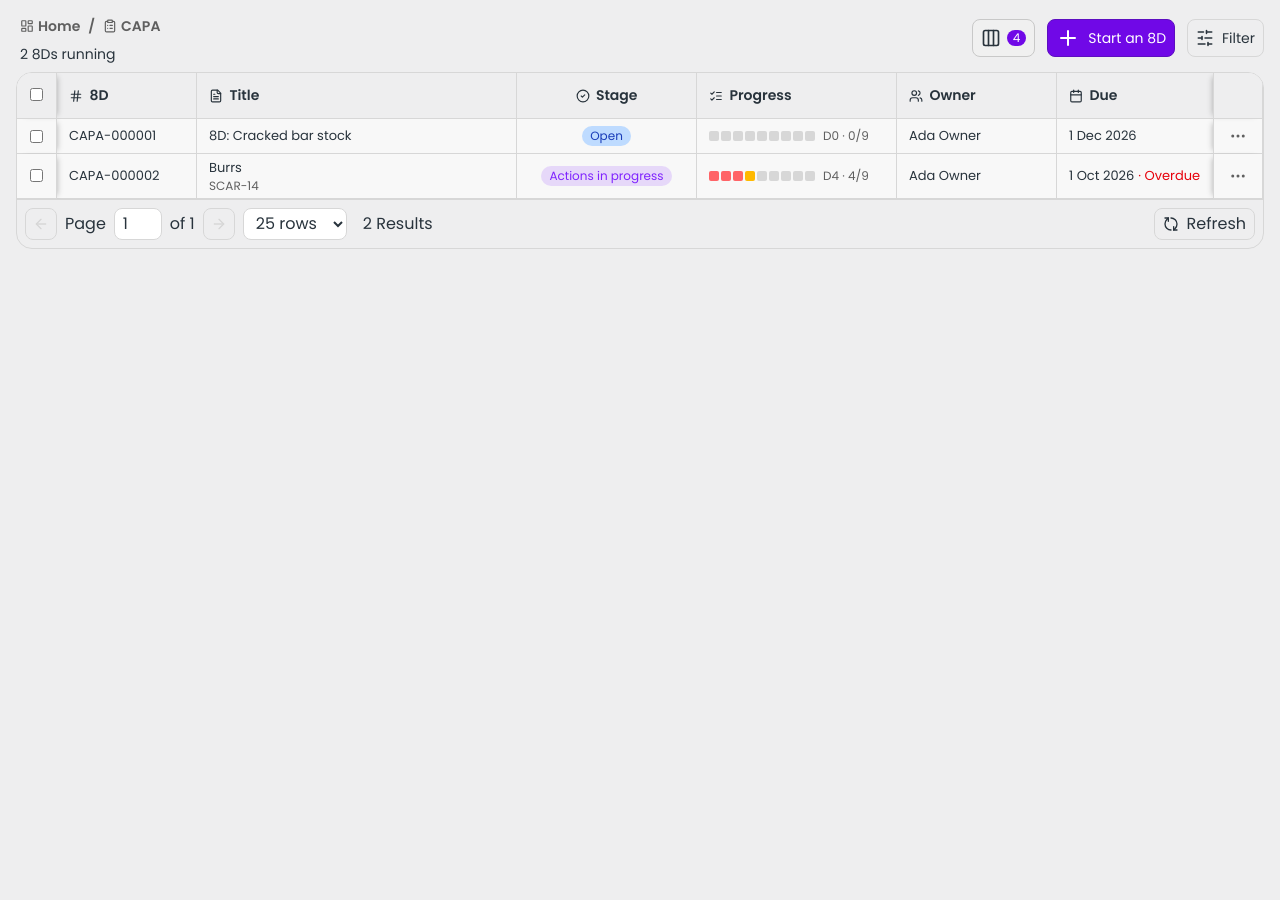
Scenario: 8D register › filters from the drawer (several stages, only mine, overdue), shows chips and clears them
Later steps or results of the test are not shown.
Expected: the element named "8Ds" is shown, [17, 73, 1263, 198]
Click the button "Filter" at (1226, 38), box [1187, 19, 1264, 57]
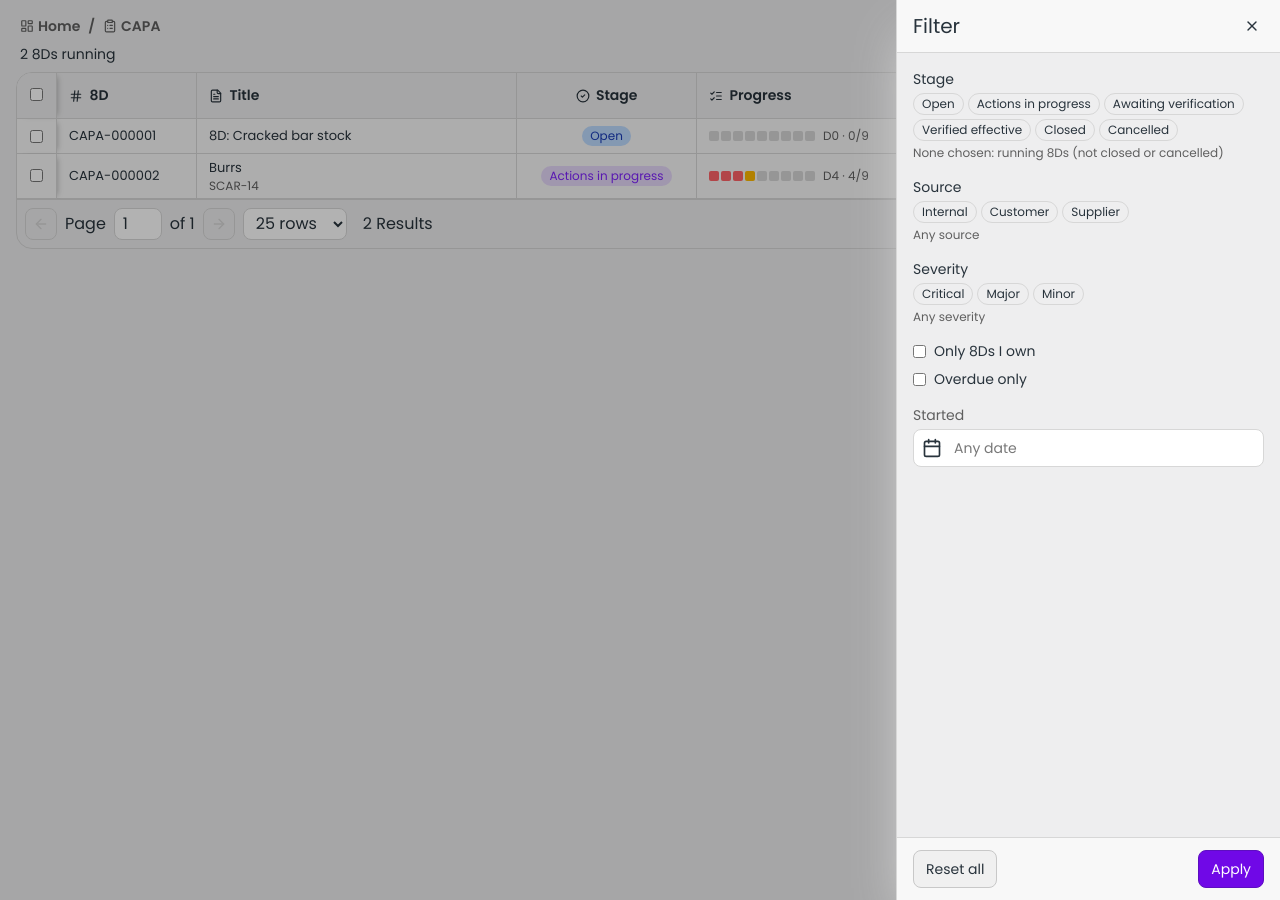
Click the 2nd checkbox labelled "Open" at (938, 104), box [913, 93, 964, 115]
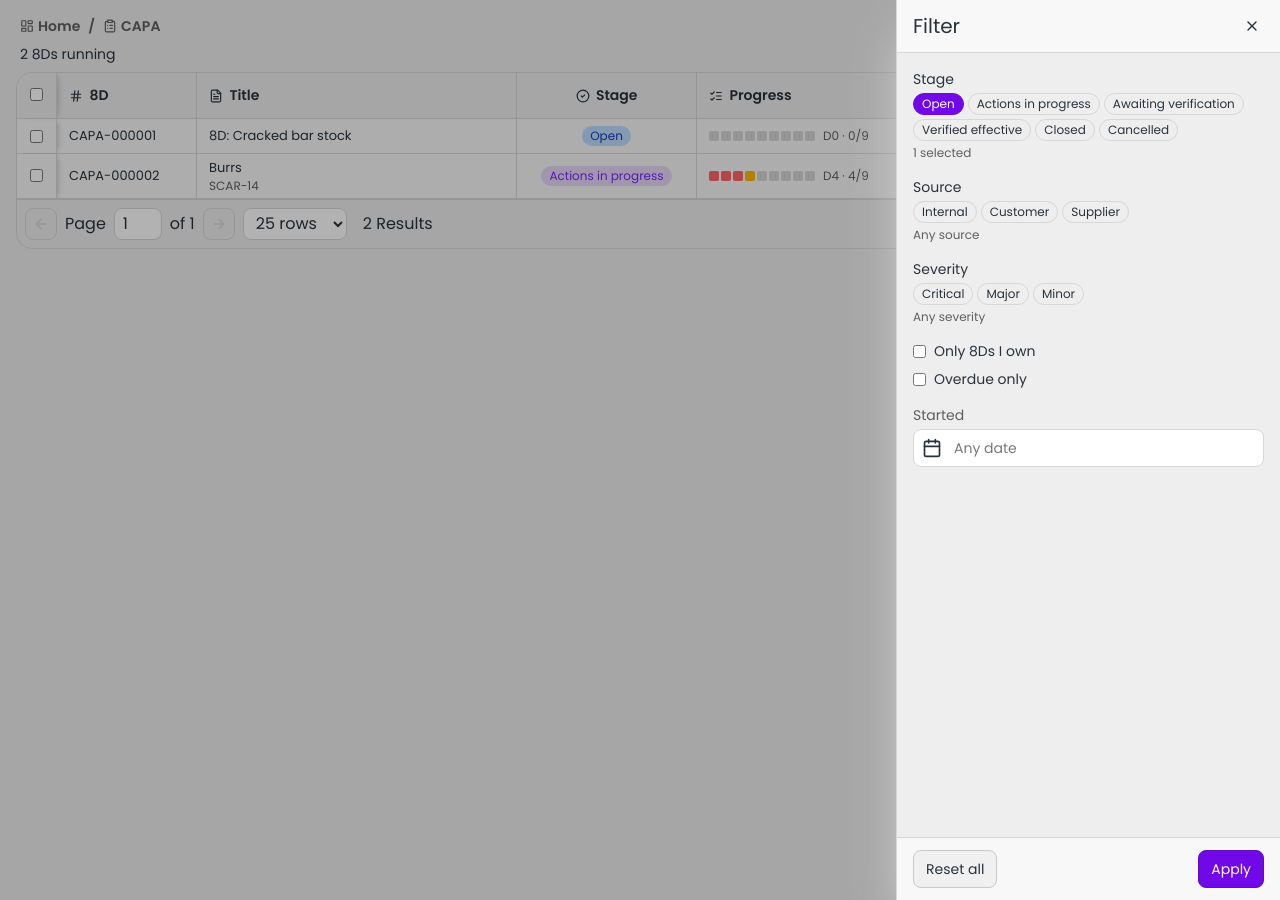
Click the 3rd checkbox labelled "Closed" at (1065, 130), box [1035, 119, 1095, 141]
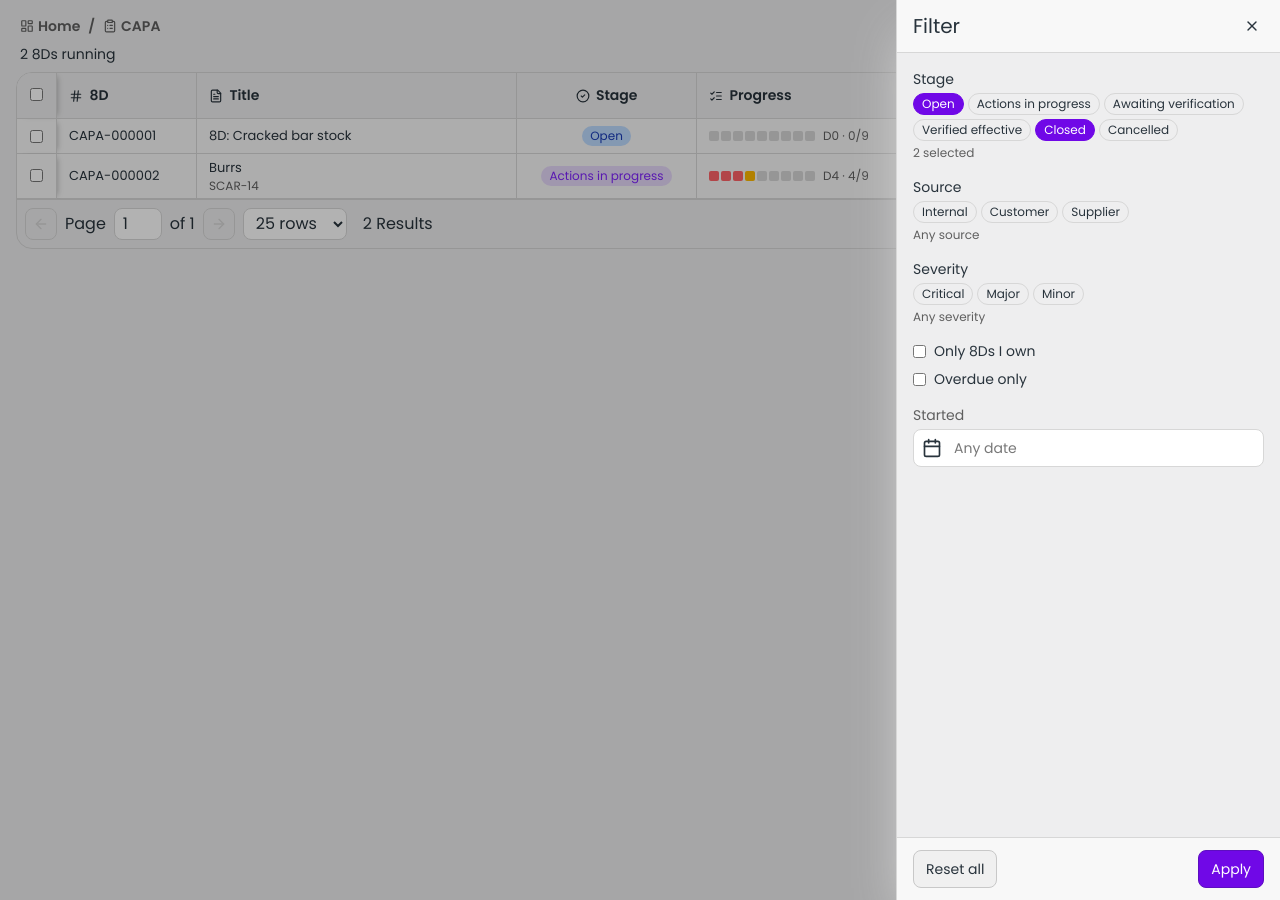
Click the checkbox labelled "Only 8Ds I own" at (920, 351), box [913, 344, 926, 358]
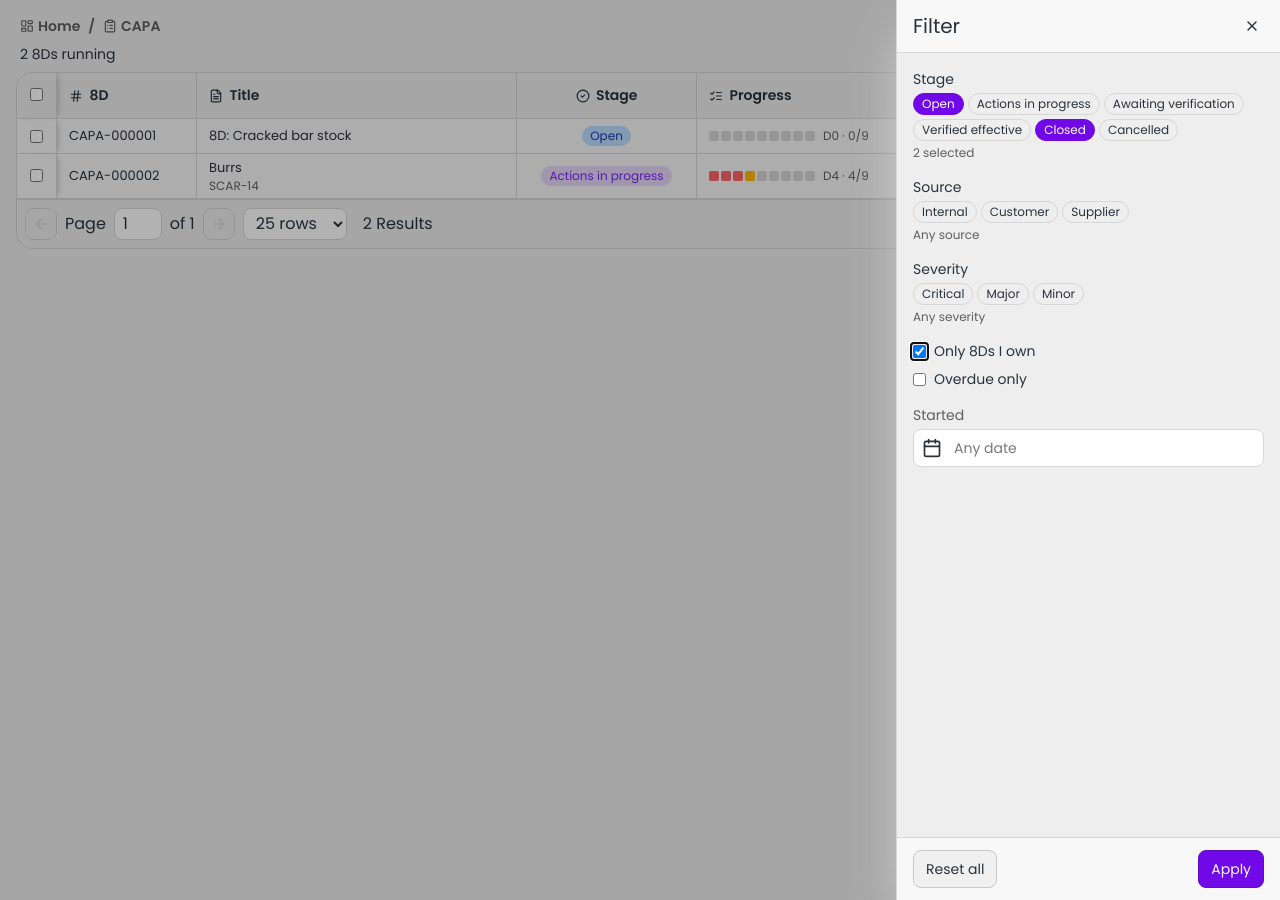
Click the checkbox labelled "Overdue only" at (920, 379), box [913, 372, 926, 386]
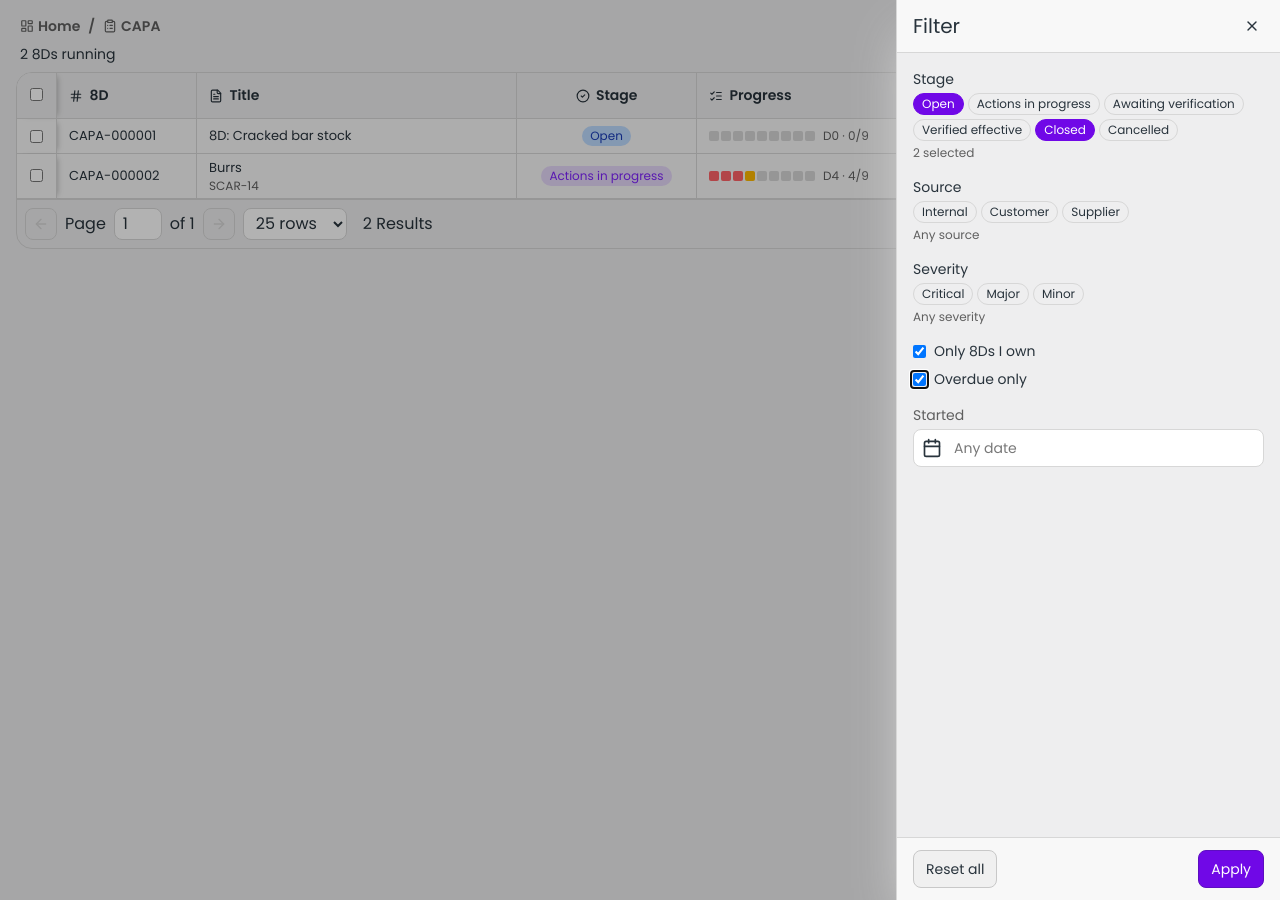
Click the button "Apply" at (1231, 869), box [1198, 850, 1264, 888]
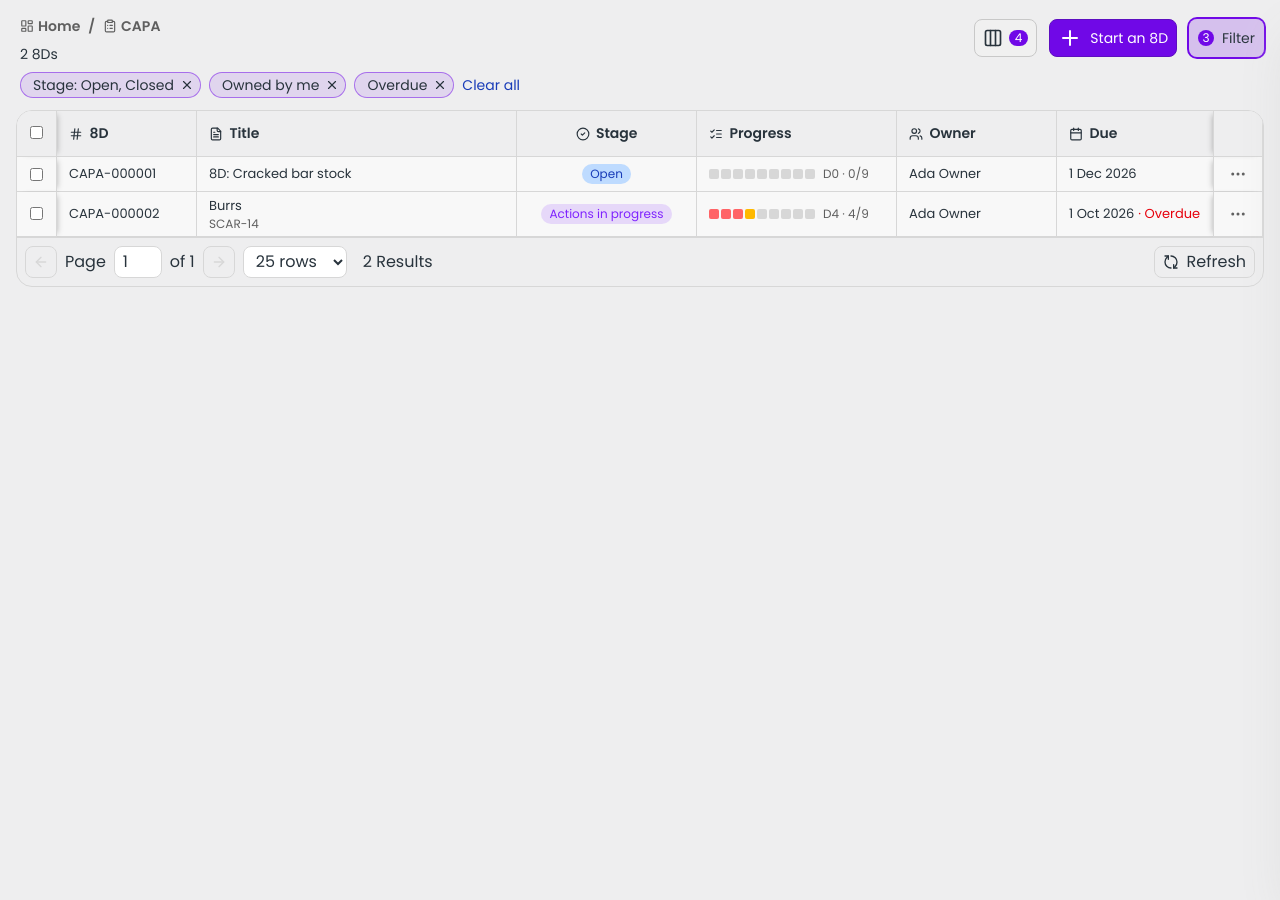
Expected: the button named "Remove filter Stage: Open, Closed" is shown, [178, 76, 196, 94]
